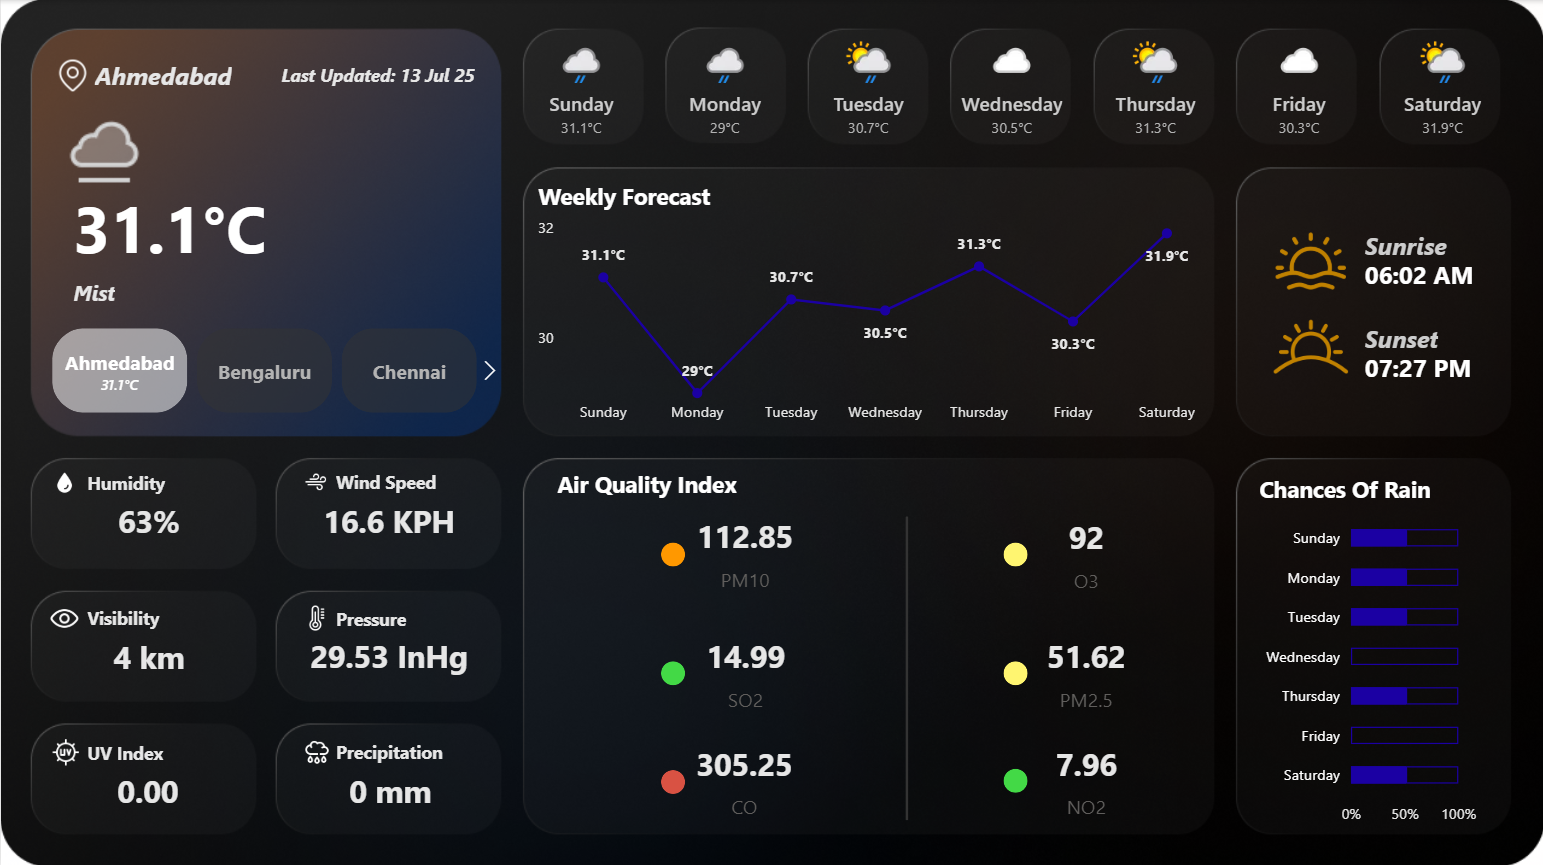

This screenshot's page, from the dashboard's own definition file:
{"tool":"powerbi","page":{"name":"Page 1","canvas":[1280,720],"ordinal":0},"visuals":[{"type":"advancedSlicerVisual","fields":{"Values":["Locations.location.name"]},"box":[17.4,267.4,403.5,80.2],"z":0},{"type":"shape","box":[60.5,144.2,217.4,87.2],"z":1000},{"type":"shape","box":[60.5,231.4,322.1,30.2],"z":2000},{"type":"shape","box":[78.2,43.2,173.6,38.2],"z":3000},{"type":"shape","box":[219.1,43.2,174.1,38.2],"z":4000},{"type":"image","box":[41.8,44.1,36.4,36.4],"z":5000},{"type":"cardVisual","fields":{"Data":["Min(Current Data.current.condition.icon)"]},"box":[24.4,62.8,105.8,114],"z":6000},{"type":"image","box":[38.3,386.2,29.6,27.5],"z":7000},{"type":"shape","box":[71.7,381,73.7,38],"z":8000},{"type":"image","box":[244.6,385.8,33.3,28.3],"z":9000},{"type":"shape","box":[277.9,380.7,88.9,38.2],"z":10000},{"type":"image","box":[34.6,494.2,37.1,37.1],"z":11000},{"type":"image","box":[246.2,496.7,30.4,32.5],"z":12000},{"type":"image","box":[37.1,607.1,32.9,32.9],"z":13000},{"type":"image","box":[245.3,607.4,32.6,33.2],"z":14000},{"type":"shape","box":[71.7,493.7,73.7,38],"z":15000},{"type":"shape","box":[71.7,604.7,73.7,38],"z":16000},{"type":"shape","box":[277.9,493.9,88.2,38.2],"z":17000},{"type":"shape","box":[277.9,604.6,107.1,37.9],"z":18000},{"type":"cardVisual","fields":{"Data":["Measures Table.Current_humidity"]},"box":[70,371.5,104.6,111.5],"z":19000},{"type":"cardVisual","fields":{"Data":["Measures Table.Current_wind_speed"]},"box":[230.2,372.1,183.7,111.6],"z":20000},{"type":"cardVisual","fields":{"Data":["Measures Table.Current_visibility"]},"box":[49.2,484.6,146.2,111.5],"z":21000},{"type":"cardVisual","fields":{"Data":["Measures Table.Current_Pressure"]},"box":[216.9,483.8,210,111.5],"z":22000},{"type":"cardVisual","fields":{"Data":["Sum(Current Data.current.uv)"]},"box":[49.1,595.9,146.4,111.8],"z":23000},{"type":"cardVisual","fields":{"Data":["Measures Table.current_precipitation"]},"box":[235,595.8,175,111.7],"z":24000},{"type":"advancedSlicerVisual","fields":{"Values":["Forecast Data By Day.Day_name"]},"box":[420.7,21.3,838,103.3],"z":25000},{"type":"lineChart","title":"Weekly Forecast","fields":{"Y":["Avg(Forecast Data By Day.forecast.forecastday.day.avgtemp_c)"],"Category":["Forecast Data By Day.Day_name"]},"box":[440,150,562.5,210],"z":26000},{"type":"shape","box":[1131,184.8,94.6,37.7],"z":27000},{"type":"shape","box":[1131,208.7,94.6,37.7],"z":28000},{"type":"shape","box":[1131,261,94.6,37.7],"z":29000},{"type":"shape","box":[1131,284.8,94.6,37.7],"z":30000},{"type":"image","box":[1051.5,182.7,68.5,68.5],"z":31000},{"type":"image","box":[1038.5,241.7,95,92],"z":32000},{"type":"hundredPercentStackedBarChart","title":"Chances Of Rain","fields":{"Y":["Sum(Forecast Data By Day.forecast.forecastday.day.daily_chance_of_rain)","Measures Table.Left_value_Rain"],"Category":["Forecast Data By Day.Day_name"]},"box":[1038,393,190,300],"z":33000},{"type":"shape","box":[461,382.3,161.2,37.3],"z":34000},{"type":"cardVisual","fields":{"Data":["Sum(Current Data.current.air_quality.o3)"]},"box":[808.3,403.3,183.9,112.2],"z":35000},{"type":"cardVisual","fields":{"Data":["Sum(Current Data.current.air_quality.pm2_5)"]},"box":[808.3,502.8,183.9,111.1],"z":36000},{"type":"cardVisual","fields":{"Data":["Sum(Current Data.current.air_quality.no2)"]},"box":[807.8,591.7,183.9,111.1],"z":37000},{"type":"cardVisual","fields":{"Data":["Sum(Current Data.current.air_quality.pm10)"]},"box":[525,403.6,183.6,111.8],"z":38000},{"type":"cardVisual","fields":{"Data":["Sum(Current Data.current.air_quality.so2)"]},"box":[524.9,502.4,184.4,111.7],"z":39000},{"type":"cardVisual","fields":{"Data":["Sum(Current Data.current.air_quality.co)"]},"box":[524.3,591.9,184.4,111.7],"z":40000},{"type":"shape","box":[547.1,449.7,20,20],"z":41000},{"type":"shape","box":[831.1,449.4,20,20],"z":42000},{"type":"shape","box":[547.1,548.6,20,20],"z":43000},{"type":"shape","box":[831.1,548.3,20,20],"z":44000},{"type":"shape","box":[547.1,638,20,20],"z":45000},{"type":"shape","box":[831.1,637.8,20,20],"z":46000},{"type":"shape","box":[670,427.8,161.1,252.2],"z":47000}]}

Visuals, with their boxes in screenshot pixels (x1, y1, x2, y2), scaled from the page's 1280x720 canvas onto the 1543x865 screenshot:
advancedSlicerVisual - Locations.location.name: [left=21, top=321, right=507, bottom=418]
shape: [left=73, top=173, right=335, bottom=278]
shape: [left=73, top=278, right=461, bottom=314]
shape: [left=94, top=52, right=304, bottom=98]
shape: [left=264, top=52, right=474, bottom=98]
image: [left=50, top=53, right=94, bottom=97]
cardVisual - Min(Current Data.current.condition.icon): [left=29, top=75, right=157, bottom=212]
image: [left=46, top=464, right=82, bottom=497]
shape: [left=86, top=458, right=175, bottom=503]
image: [left=295, top=463, right=335, bottom=497]
shape: [left=335, top=457, right=442, bottom=503]
image: [left=42, top=594, right=86, bottom=638]
image: [left=297, top=597, right=333, bottom=636]
image: [left=45, top=729, right=84, bottom=769]
image: [left=296, top=730, right=335, bottom=770]
shape: [left=86, top=593, right=175, bottom=639]
shape: [left=86, top=726, right=175, bottom=772]
shape: [left=335, top=593, right=441, bottom=639]
shape: [left=335, top=726, right=464, bottom=772]
cardVisual - Measures Table.Current_humidity: [left=84, top=446, right=210, bottom=580]
cardVisual - Measures Table.Current_wind_speed: [left=277, top=447, right=499, bottom=581]
cardVisual - Measures Table.Current_visibility: [left=59, top=582, right=236, bottom=716]
cardVisual - Measures Table.Current_Pressure: [left=261, top=581, right=515, bottom=715]
cardVisual - Sum(Current Data.current.uv): [left=59, top=716, right=236, bottom=850]
cardVisual - Measures Table.current_precipitation: [left=283, top=716, right=494, bottom=850]
advancedSlicerVisual - Forecast Data By Day.Day_name: [left=507, top=26, right=1517, bottom=150]
"Weekly Forecast" lineChart: [left=530, top=180, right=1208, bottom=432]
shape: [left=1363, top=222, right=1477, bottom=267]
shape: [left=1363, top=251, right=1477, bottom=296]
shape: [left=1363, top=314, right=1477, bottom=359]
shape: [left=1363, top=342, right=1477, bottom=387]
image: [left=1268, top=219, right=1350, bottom=302]
image: [left=1252, top=290, right=1366, bottom=401]
"Chances Of Rain" hundredPercentStackedBarChart: [left=1251, top=472, right=1480, bottom=833]
shape: [left=556, top=459, right=750, bottom=504]
cardVisual - Sum(Current Data.current.air_quality.o3): [left=974, top=485, right=1196, bottom=619]
cardVisual - Sum(Current Data.current.air_quality.pm2_5): [left=974, top=604, right=1196, bottom=738]
cardVisual - Sum(Current Data.current.air_quality.no2): [left=974, top=711, right=1195, bottom=844]
cardVisual - Sum(Current Data.current.air_quality.pm10): [left=633, top=485, right=854, bottom=619]
cardVisual - Sum(Current Data.current.air_quality.so2): [left=633, top=604, right=855, bottom=738]
cardVisual - Sum(Current Data.current.air_quality.co): [left=632, top=711, right=854, bottom=845]
shape: [left=660, top=540, right=684, bottom=564]
shape: [left=1002, top=540, right=1026, bottom=564]
shape: [left=660, top=659, right=684, bottom=683]
shape: [left=1002, top=659, right=1026, bottom=683]
shape: [left=660, top=766, right=684, bottom=791]
shape: [left=1002, top=766, right=1026, bottom=790]
shape: [left=808, top=514, right=1002, bottom=817]
